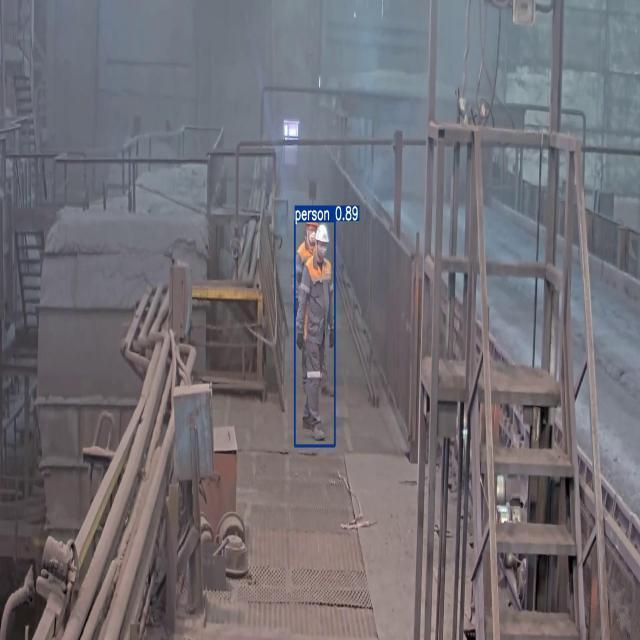safety_helmet: (295, 221, 335, 446)
